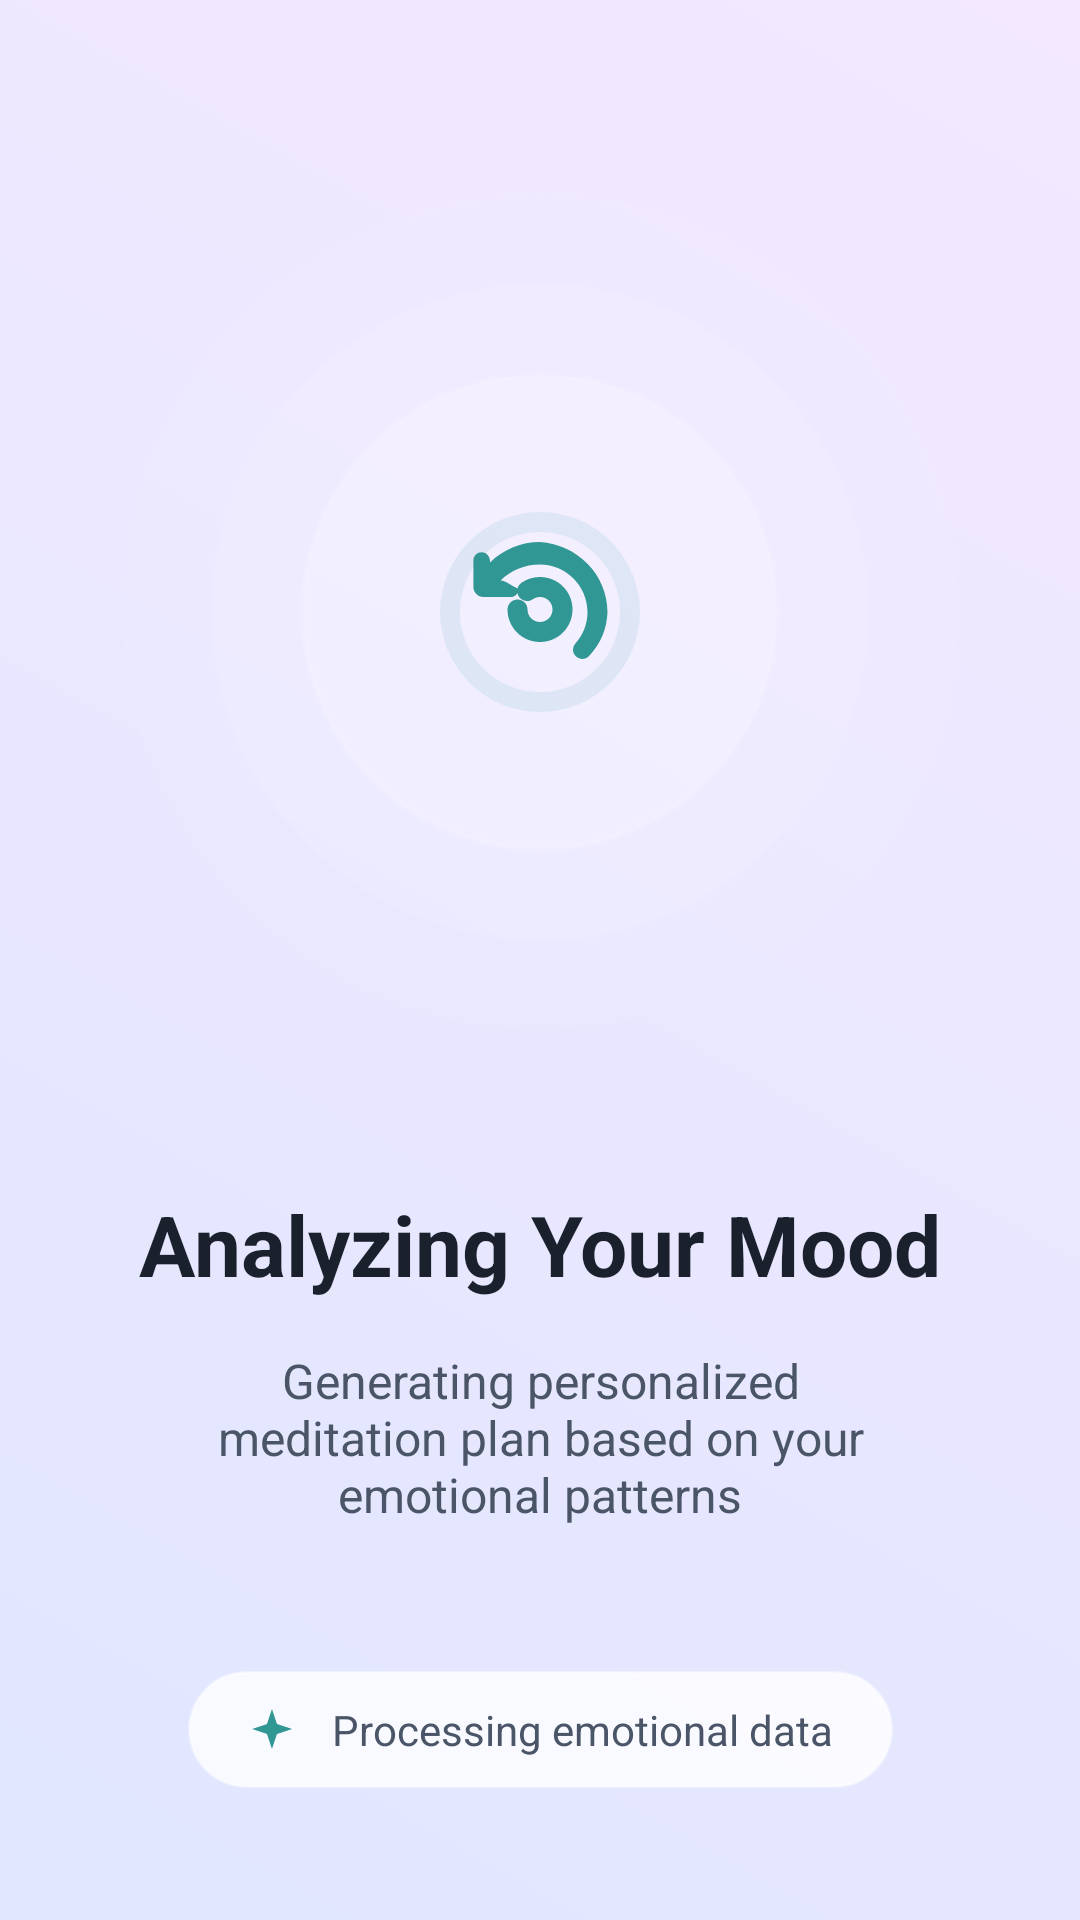

Icons on this 1080 × 1920 Android screen, each with its box as (x1, y1, x2, y2):
star: (252, 1709, 292, 1749)
